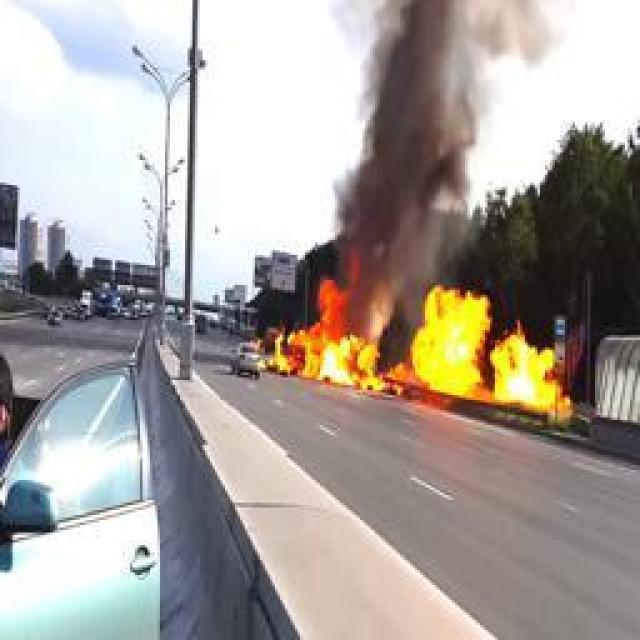Fire: (276, 280, 399, 395), (488, 320, 574, 425), (411, 278, 484, 396)
